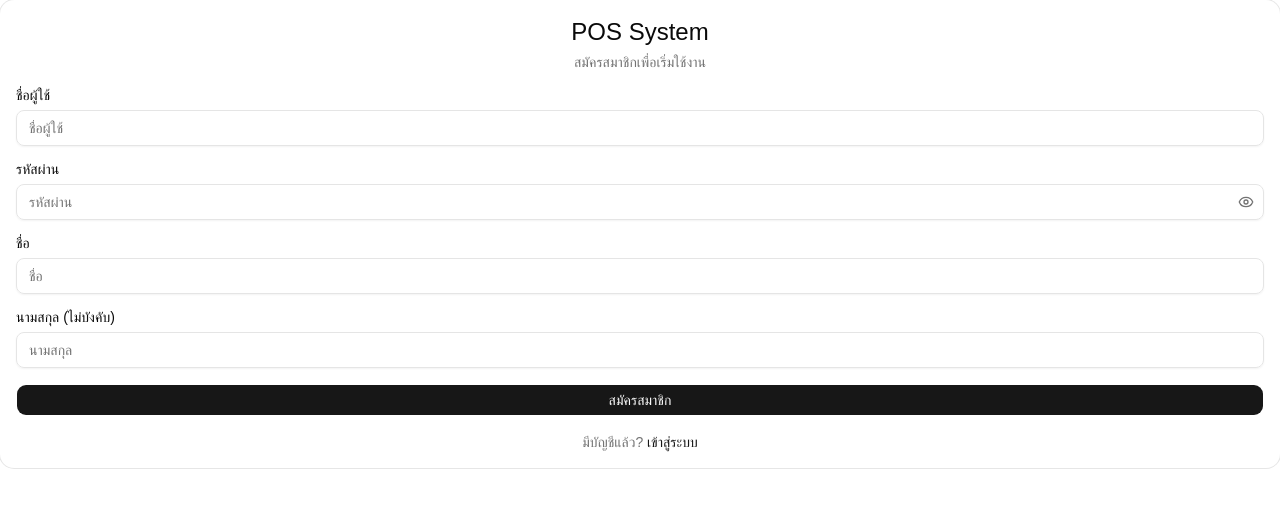
Test: RegisterPage › shows validation error for short password
Type "testuser" into the field labelled "ชื่อผู้ใช้" at (640, 128), box [16,110,1264,146]
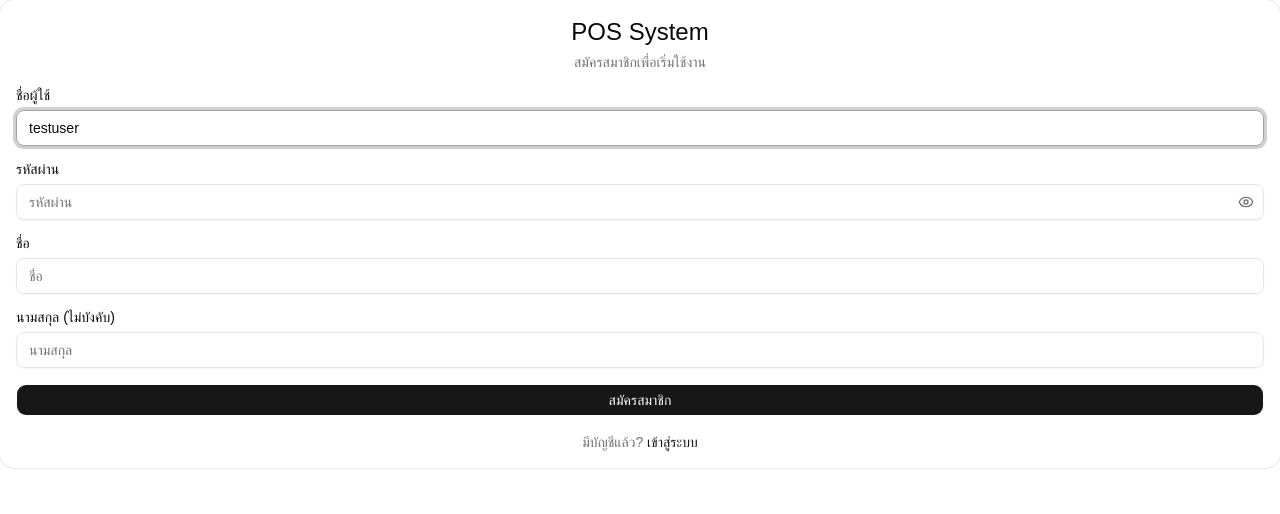
Type "1234567" into the password field labelled "รหัสผ่าน" at (640, 202), box [16,184,1264,220]
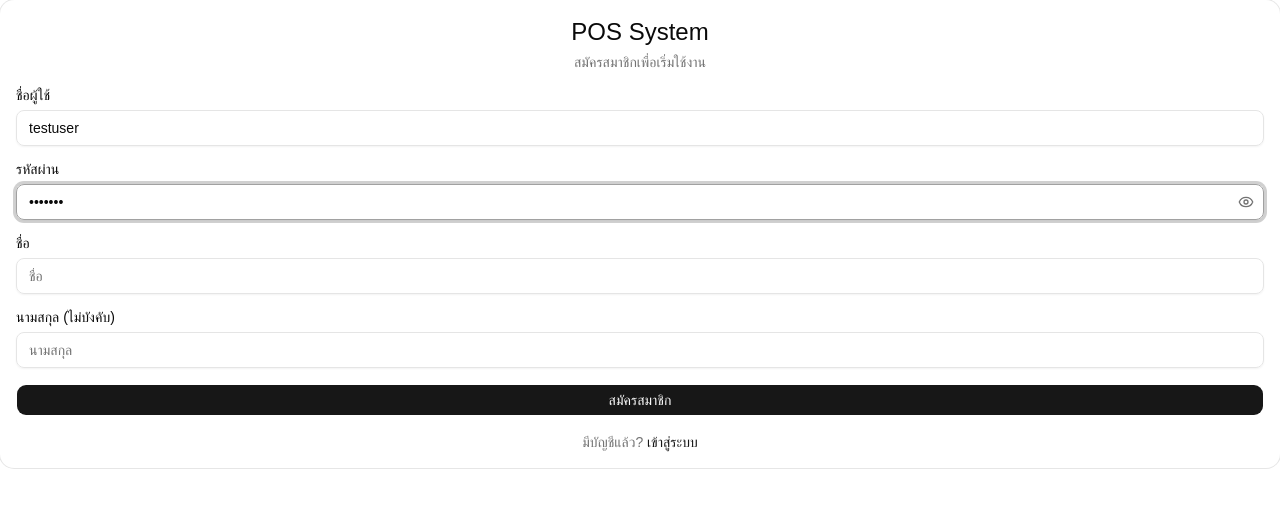
Type "Test" into the field labelled "ชื่อ" at (640, 276), box [16,258,1264,294]
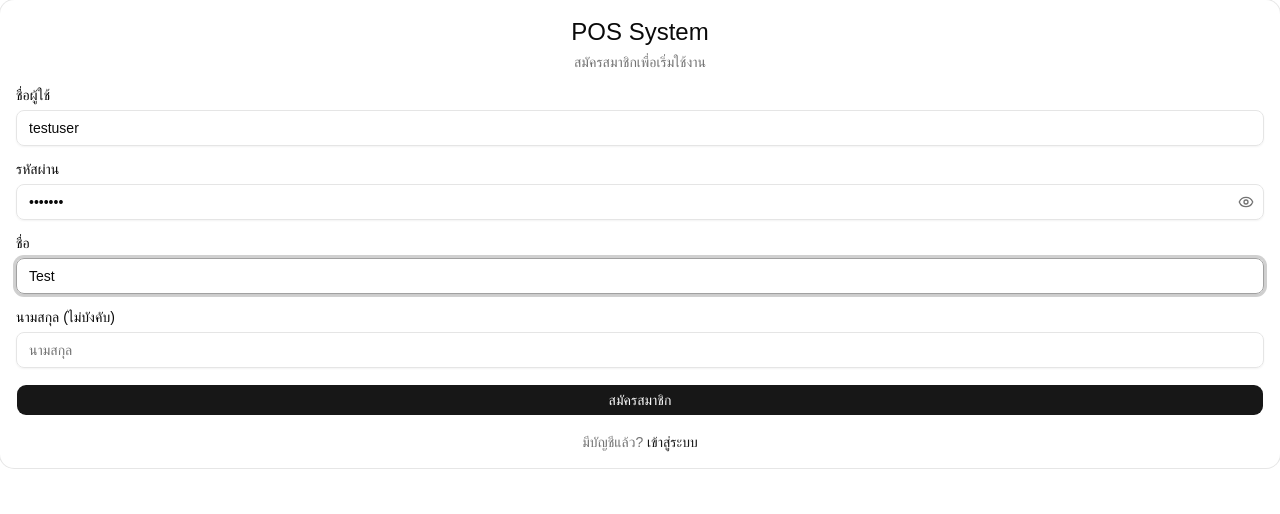
Click the button "สมัครสมาชิก" at (640, 400), box [16,384,1264,416]
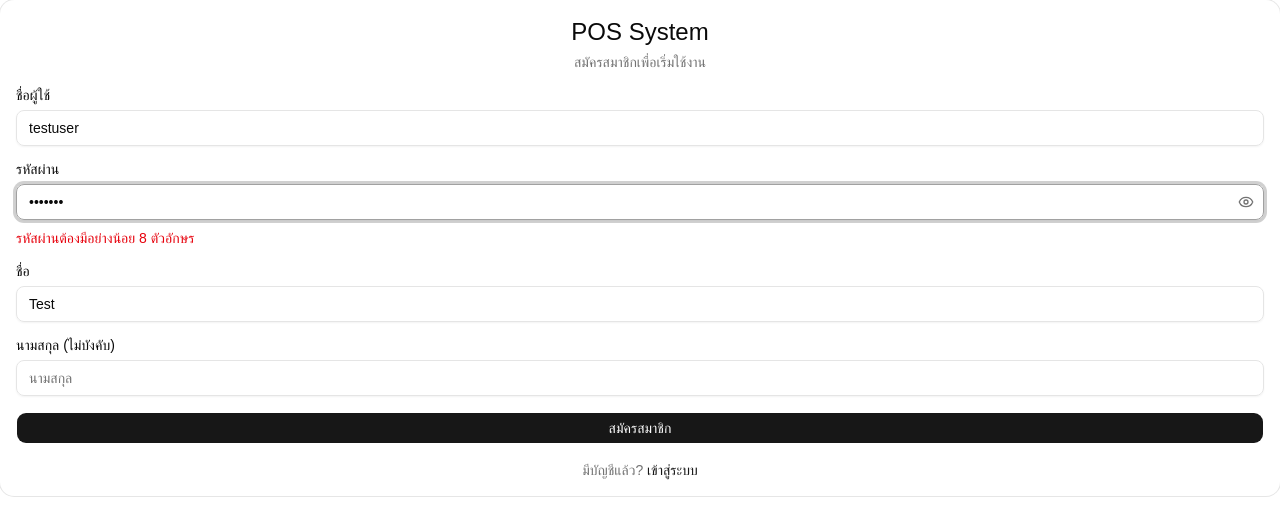
expect the text "รหัสผ่านต้องมีอย่างน้อย 8 ตัวอักษร" is shown: met, box [16,230,194,246]
